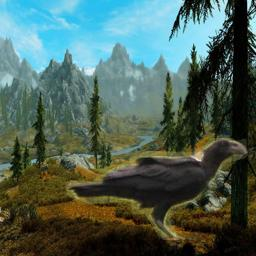Crow: (66, 138, 248, 240)
